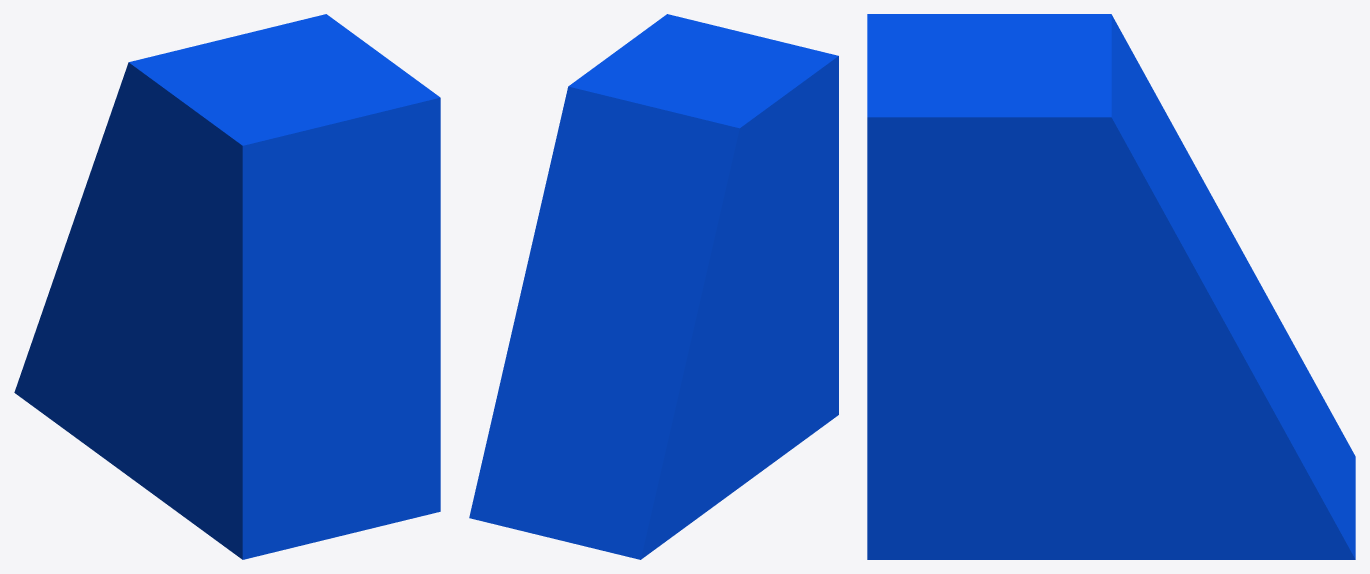
Rendered from COL_Barrier-Outdoor-4x4x4-Rocks-Slope-Narrow.FBX.
3 views of the same model, side by side, from view 1: azimuth 30°, elevation 25°; view 2: azimuth 150°, elevation 25°; view 3: azimuth 270°, elevation 25° (orthographic). The views are drawn at different scales.
Visible parts, largest first — view 1: COL_Barrier-Outdoor-4x4x4-Rocks-Slope-Narrow; view 2: COL_Barrier-Outdoor-4x4x4-Rocks-Slope-Narrow; view 3: COL_Barrier-Outdoor-4x4x4-Rocks-Slope-Narrow.
Boxes of the visible parts, x1,y1,x2,y2 form: COL_Barrier-Outdoor-4x4x4-Rocks-Slope-Narrow: (14,14,440,559); COL_Barrier-Outdoor-4x4x4-Rocks-Slope-Narrow: (469,14,838,559); COL_Barrier-Outdoor-4x4x4-Rocks-Slope-Narrow: (867,14,1355,559).
Size of the model in its own units: 20 by 40 by 40.
